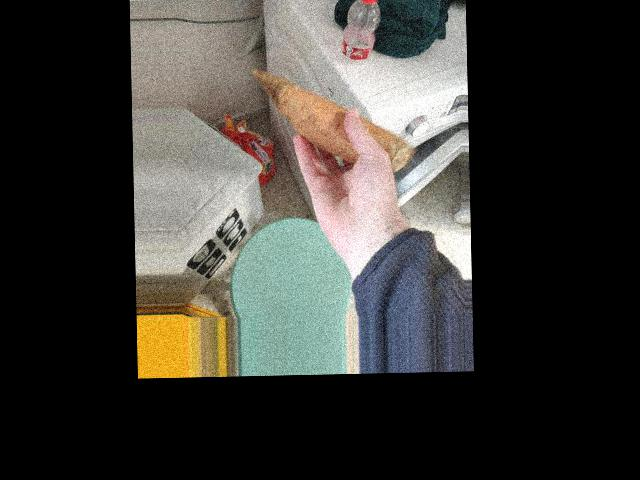sweet_potato: (288, 78, 375, 163)
